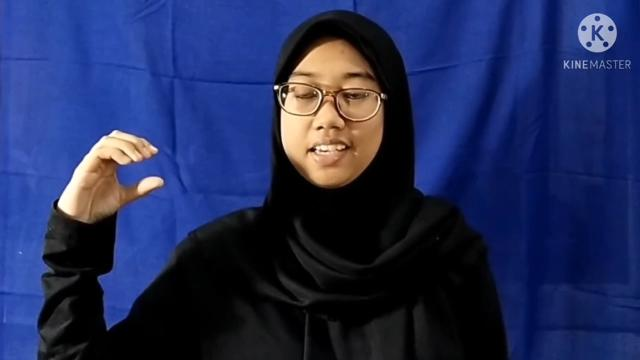C: (64, 129, 164, 223)
